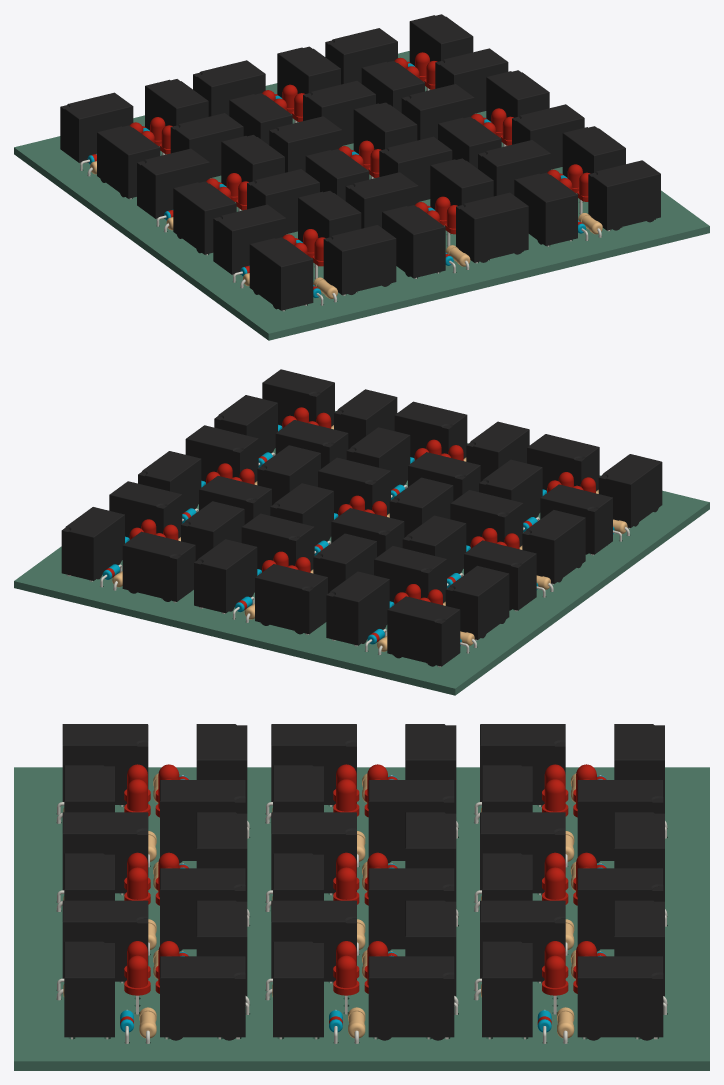
The model's file is First.glb.
3 renders of one model, top to bottom at view 1: azimuth 30°, elevation 25°; view 2: azimuth 150°, elevation 25°; view 3: azimuth 270°, elevation 25°, orthographic. The views are drawn at different scales.
Visible parts, largest first — view 1: =>[0:1:1:9] (×36), =>[0:1:1:10]; view 2: =>[0:1:1:9] (×36), =>[0:1:1:10]; view 3: =>[0:1:1:9] (×36), =>[0:1:1:10], =>[0:1:1:3] (×9).
Part boxes in pixels (bbox=[...]): =>[0:1:1:9] (×36): bbox=[60, 14, 660, 311]; =>[0:1:1:10]: bbox=[14, 51, 709, 340]; =>[0:1:1:9] (×36): bbox=[61, 369, 662, 667]; =>[0:1:1:10]: bbox=[14, 411, 709, 695]; =>[0:1:1:9] (×36): bbox=[62, 724, 664, 1040]; =>[0:1:1:10]: bbox=[14, 767, 709, 1070]; =>[0:1:1:3] (×9): bbox=[124, 779, 568, 1014].
Bounding box in the file's own units: 0.1 × 0.0134 × 0.1.
